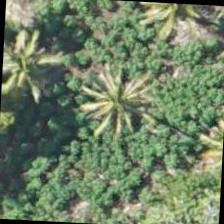Kelapa_Sawit: (0, 20, 69, 114)
